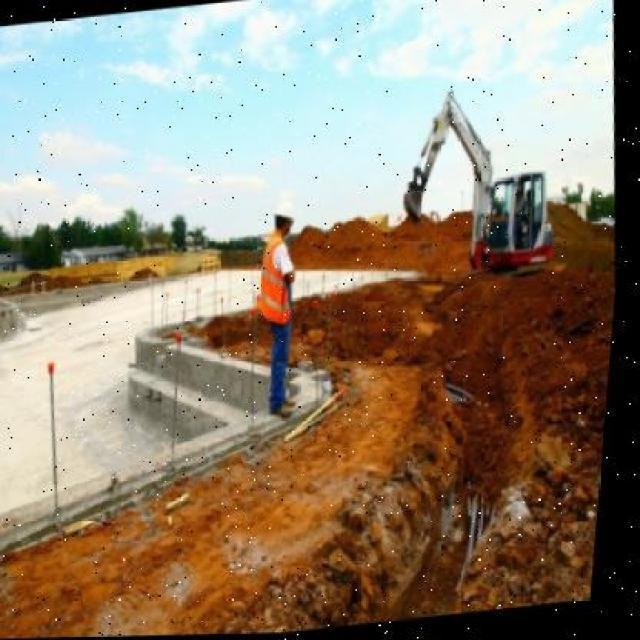vest: (257, 230, 307, 326)
